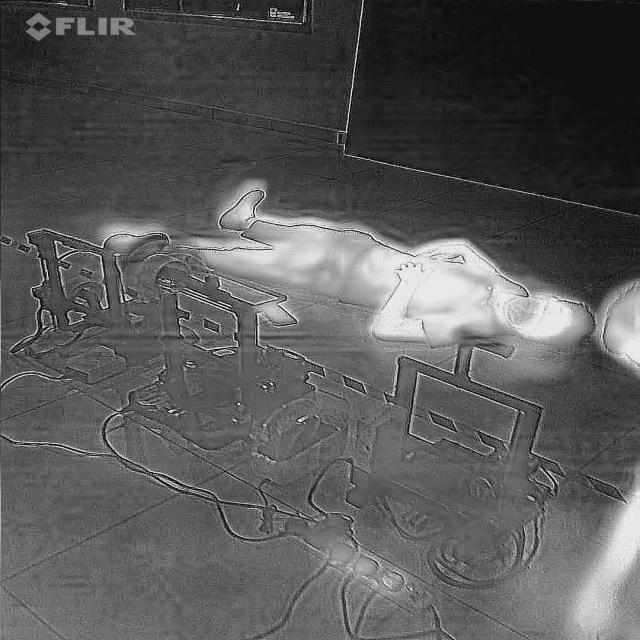Victim: (82, 180, 600, 354)
